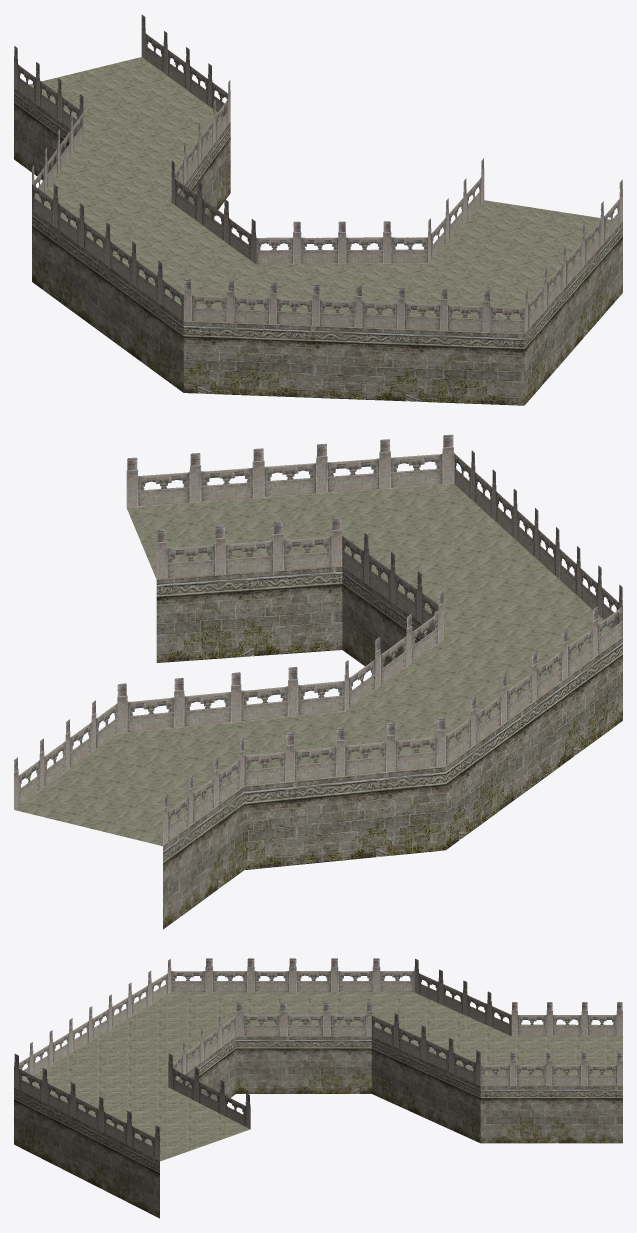
Rendered from cj_pal_south_brid02.glb.
3 views of the same model, one above another, from view 1: azimuth 30°, elevation 25°; view 2: azimuth 150°, elevation 25°; view 3: azimuth 270°, elevation 25° (orthographic). The views are drawn at different scales.
Parts seen in each view (by area): view 1: CJ_pal_south_brid02_wall, CJ_pal_south_brid02_floor, CJ_pal_south_brid02_fence_al; view 2: CJ_pal_south_brid02_floor, CJ_pal_south_brid02_wall, CJ_pal_south_brid02_fence_al; view 3: CJ_pal_south_brid02_wall, CJ_pal_south_brid02_floor, CJ_pal_south_brid02_fence_al.
Part boxes in pixels (x1,y1,x2,y2): CJ_pal_south_brid02_wall: (14, 88, 622, 405); CJ_pal_south_brid02_floor: (29, 57, 610, 319); CJ_pal_south_brid02_fence_al: (14, 14, 622, 334); CJ_pal_south_brid02_floor: (14, 484, 609, 846); CJ_pal_south_brid02_wall: (156, 566, 622, 929); CJ_pal_south_brid02_fence_al: (14, 434, 622, 845); CJ_pal_south_brid02_wall: (14, 1036, 622, 1218); CJ_pal_south_brid02_floor: (24, 992, 622, 1161); CJ_pal_south_brid02_fence_al: (14, 958, 622, 1161).
Bounding box in the file's own units: 15.99 × 4.03 × 24.35.
3 materials, 3 textured.
